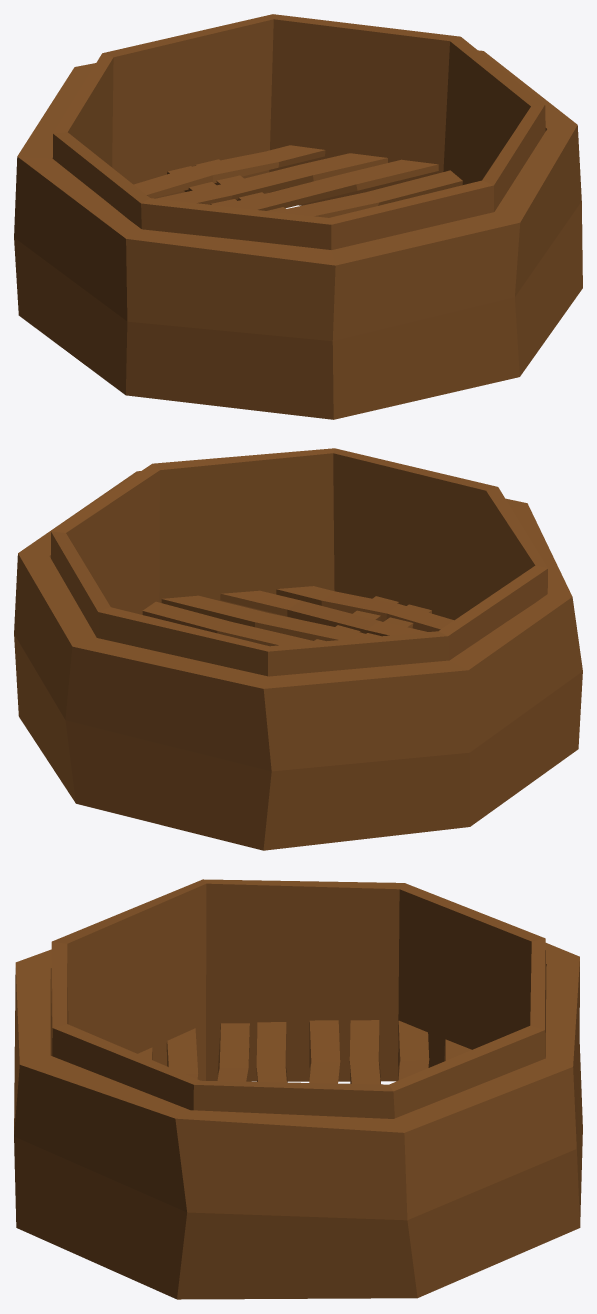
File: Steam_Basket.fbx
The picture shows the model from 3 angles, top to bottom: view 1: azimuth 30°, elevation 25°; view 2: azimuth 150°, elevation 25°; view 3: azimuth 270°, elevation 25°; orthographic projection. The views are drawn at different scales.
Parts seen in each view (by area): view 1: Cylinder.004; view 2: Cylinder.004; view 3: Cylinder.004.
Boxes of the visible parts, x1,y1,x2,y2 form: Cylinder.004: (14,14,582,419); Cylinder.004: (14,448,582,850); Cylinder.004: (14,879,582,1299).
Size of the model in its own units: 192 by 73.6 by 190.
